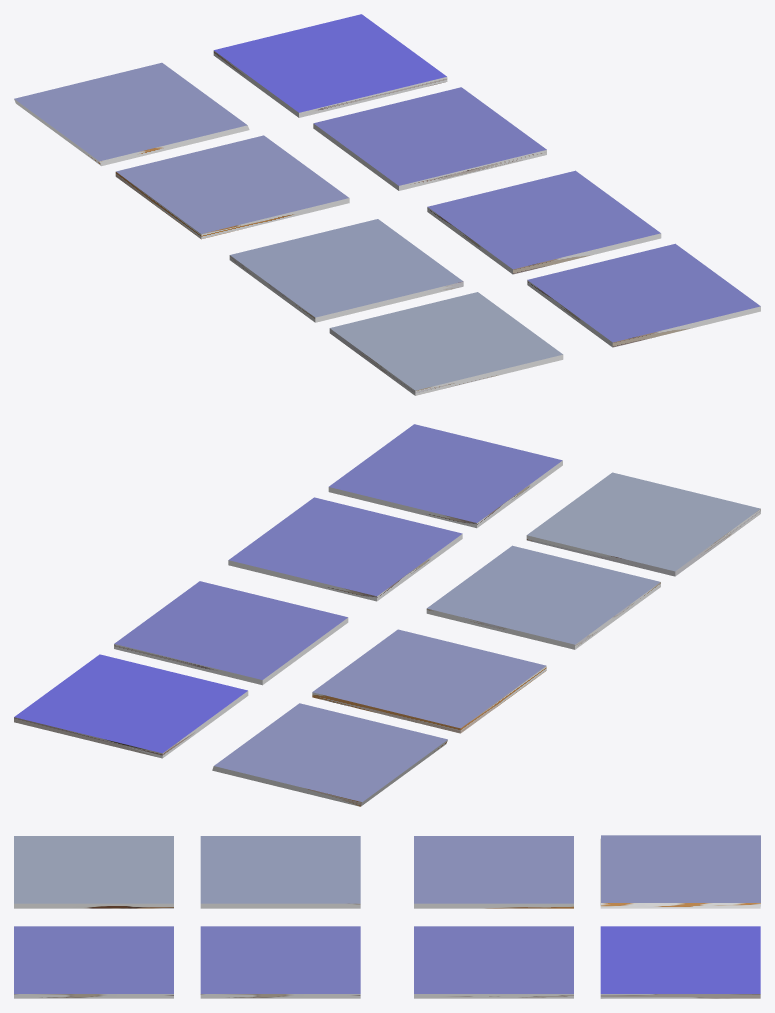
Rendered from set1.fbx.
The picture shows the model from 3 angles, top to bottom: view 1: azimuth 30°, elevation 25°; view 2: azimuth 150°, elevation 25°; view 3: azimuth 270°, elevation 25°; orthographic projection. The views are drawn at different scales.
Parts seen in each view (by area): view 1: p2a, p4a, p1b, p3a, p4b, p2b, p1a, p3b; view 2: p2b, p2a, p3a, p1a, p4a, p1b, p4b, p3b; view 3: p3b, p1b, p2a, p4a, p1a, p2b, p3a, p4b.
Boxes of the visible parts, left/top/right/bottom form: p2a: left=427, top=170, right=661, bottom=274; p4a: left=229, top=219, right=463, bottom=322; p1b: left=213, top=14, right=447, bottom=117; p3a: left=115, top=135, right=349, bottom=239; p4b: left=329, top=292, right=563, bottom=395; p2b: left=527, top=243, right=760, bottom=347; p1a: left=313, top=87, right=546, bottom=190; p3b: left=14, top=62, right=249, bottom=166; p2b: left=328, top=424, right=562, bottom=528; p2a: left=228, top=497, right=462, bottom=601; p3a: left=312, top=629, right=546, bottom=733; p1a: left=114, top=581, right=348, bottom=685; p4a: left=426, top=545, right=660, bottom=649; p1b: left=14, top=654, right=248, bottom=758; p4b: left=526, top=472, right=760, bottom=576; p3b: left=212, top=703, right=447, bottom=806; p3b: left=600, top=835, right=760, bottom=908; p1b: left=600, top=926, right=760, bottom=998; p2a: left=200, top=926, right=360, bottom=998; p4a: left=200, top=836, right=360, bottom=908; p1a: left=414, top=926, right=573, bottom=998; p2b: left=14, top=926, right=173, bottom=998; p3a: left=414, top=836, right=573, bottom=908; p4b: left=14, top=836, right=173, bottom=908.
Bounding box in the file's own units: 14.07 × 28.01 × 0.2.
